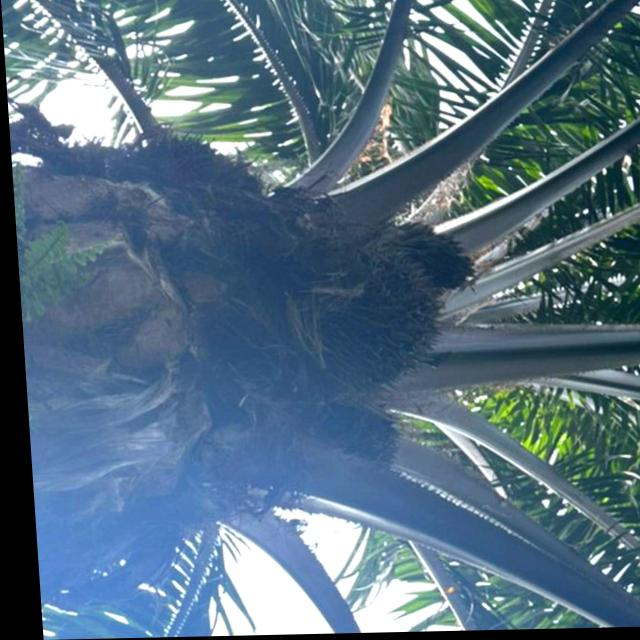almost: (269, 231, 450, 399)
